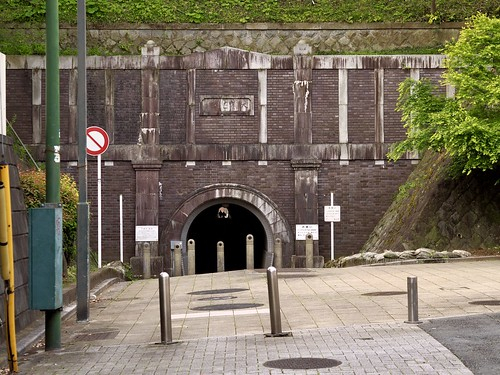sign: (80, 126, 111, 164)
tree: (394, 13, 500, 170)
